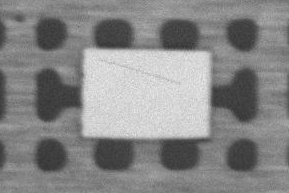DIE_CRACK: (148, 39, 268, 55)
